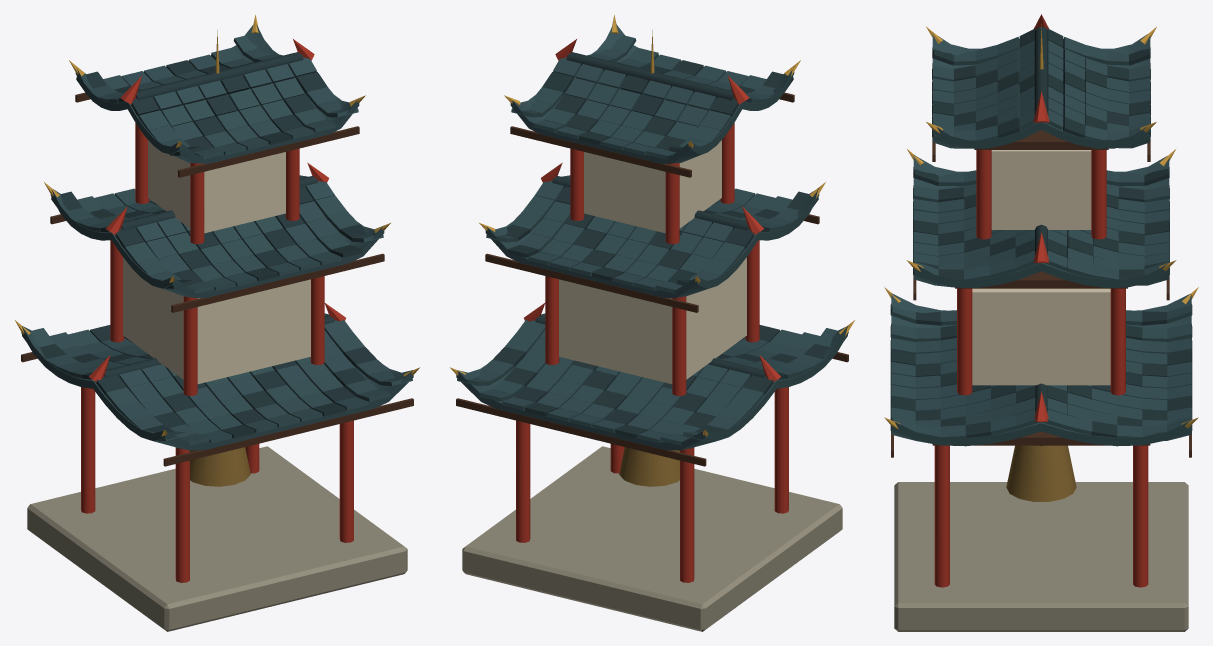
The model's file is pagoda_bell_tower.glb.
3 renders of one model, left to right at view 1: azimuth 30°, elevation 25°; view 2: azimuth 150°, elevation 25°; view 3: azimuth 270°, elevation 25°, orthographic. The views are drawn at different scales.
Visible parts, largest first — view 1: Pagoda; view 2: Pagoda; view 3: Pagoda.
Part boxes in pixels (left/top/right/bottom): Pagoda: left=15, top=15, right=419, bottom=631; Pagoda: left=450, top=15, right=854, bottom=631; Pagoda: left=884, top=14, right=1198, bottom=631.
Size of what is drawn, in the model's own units: 4.83 by 9.45 by 4.92.
